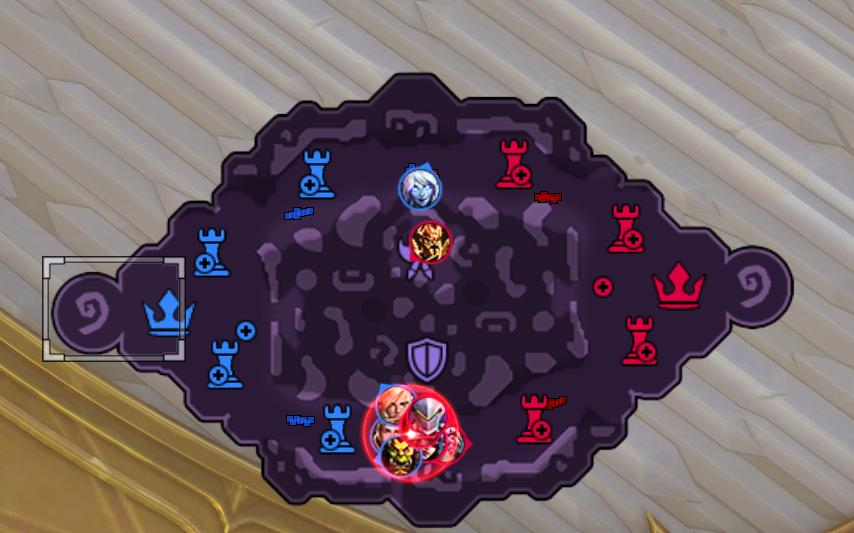blue nexus: (140, 286, 202, 340)
blue player: (399, 166, 441, 212)
blue tower: (205, 337, 245, 389), (297, 147, 335, 200), (192, 225, 230, 276), (317, 402, 355, 453)
red nexus: (651, 260, 707, 310)
red player: (405, 220, 452, 265), (377, 433, 420, 477), (405, 394, 448, 437), (374, 384, 416, 427), (367, 411, 404, 456), (427, 425, 467, 465)
red tower: (511, 390, 560, 448), (494, 137, 533, 190), (605, 202, 645, 253), (620, 314, 658, 366)
